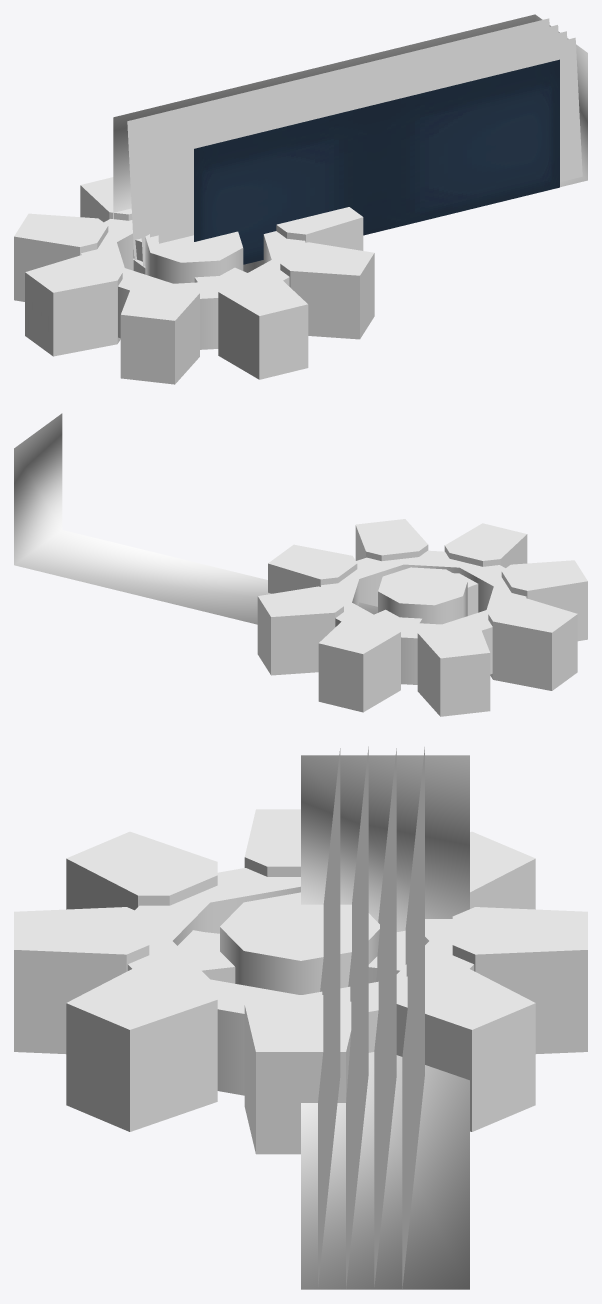
The model's file is roof_gear_6x2.glb.
3 views of the same model, one above another, from view 1: azimuth 30°, elevation 25°; view 2: azimuth 150°, elevation 25°; view 3: azimuth 270°, elevation 25° (orthographic). The views are drawn at different scales.
Parts seen in each view (by area): view 1: rsrc.world.tileset.clockworks_freeze.wall.roof_gear_6x2-Mesh (×3), rsrc.world.prop.clockworks.gears.1unit_teeth.parts.08teeth-M (×4); view 2: rsrc.world.prop.clockworks.gears.1unit_teeth.parts.08teeth-M (×4), rsrc.world.tileset.clockworks_freeze.wall.roof_gear_6x2-Mesh; view 3: rsrc.world.prop.clockworks.gears.1unit_teeth.parts.08teeth-M (×4), rsrc.world.tileset.clockworks_freeze.wall.roof_gear_6x2-Mesh (×2).
Boxes of the visible parts, bbox=[...] form: rsrc.world.tileset.clockworks_freeze.wall.roof_gear_6x2-Mesh (×3): bbox=[113, 14, 587, 267]; rsrc.world.prop.clockworks.gears.1unit_teeth.parts.08teeth-M (×4): bbox=[14, 177, 374, 384]; rsrc.world.prop.clockworks.gears.1unit_teeth.parts.08teeth-M (×4): bbox=[257, 519, 587, 716]; rsrc.world.tileset.clockworks_freeze.wall.roof_gear_6x2-Mesh: bbox=[14, 413, 377, 624]; rsrc.world.prop.clockworks.gears.1unit_teeth.parts.08teeth-M (×4): bbox=[14, 809, 587, 1154]; rsrc.world.tileset.clockworks_freeze.wall.roof_gear_6x2-Mesh (×2): bbox=[301, 746, 469, 1289].
Bounding box in the file's own units: 9.01 × 2.64 × 5.09.
Materials: 6 (1 with a texture image).
